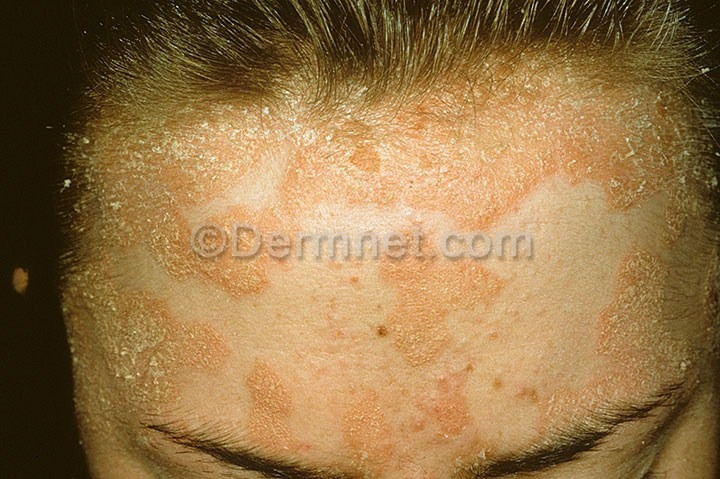Psoriasis: (275, 86, 712, 226), (91, 101, 274, 295), (76, 267, 240, 427), (259, 353, 490, 466), (374, 231, 506, 371), (595, 229, 710, 387)
